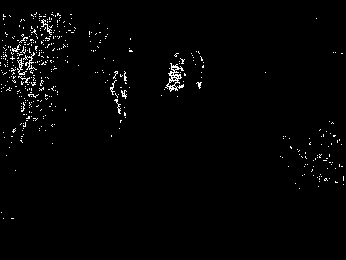person: (109, 70, 131, 120), (192, 50, 206, 88)
